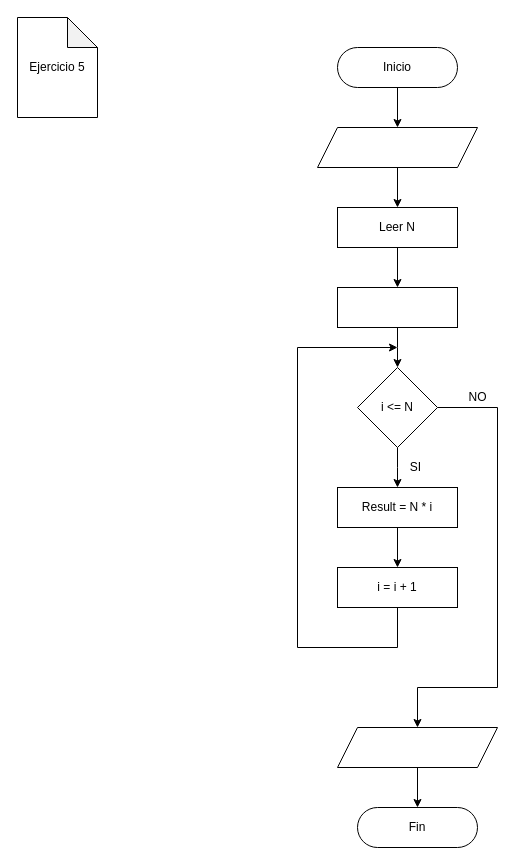
Some shapes in this 523 by 865 pixel diagram are drawn without their labels. Here are the shapes that lost their labels. From the top down, the centre of each, then its label:
[397,147]: Escribe: "Dame N"
[397,307]: Crear variable i = 1 Crear Result
[417,747]: Escribe: "N! = " Result
